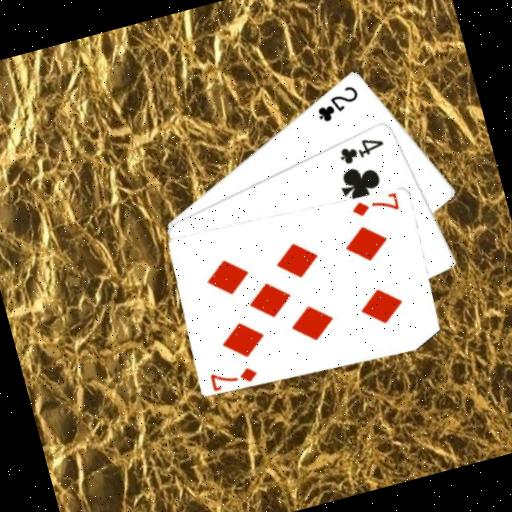2C: (309, 80, 365, 126)
4C: (334, 130, 389, 167)
7D: (347, 188, 402, 222), (205, 358, 260, 392)
